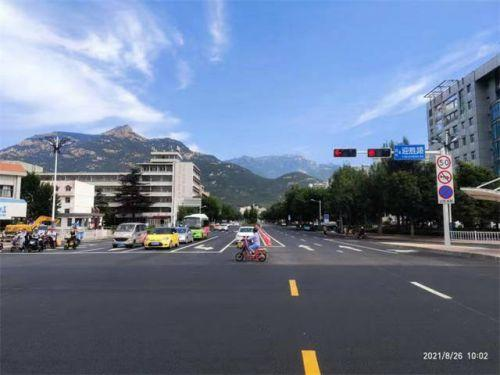bicycle: (235, 244, 269, 262)
bus: (179, 213, 211, 240)
car: (112, 222, 148, 247), (142, 229, 180, 249), (237, 225, 255, 236), (303, 225, 314, 230)
person: (10, 232, 26, 253), (74, 228, 84, 247)
sign: (435, 153, 457, 204), (393, 142, 426, 161)
traffic light: (333, 147, 357, 157), (367, 147, 389, 157), (367, 148, 375, 157)
